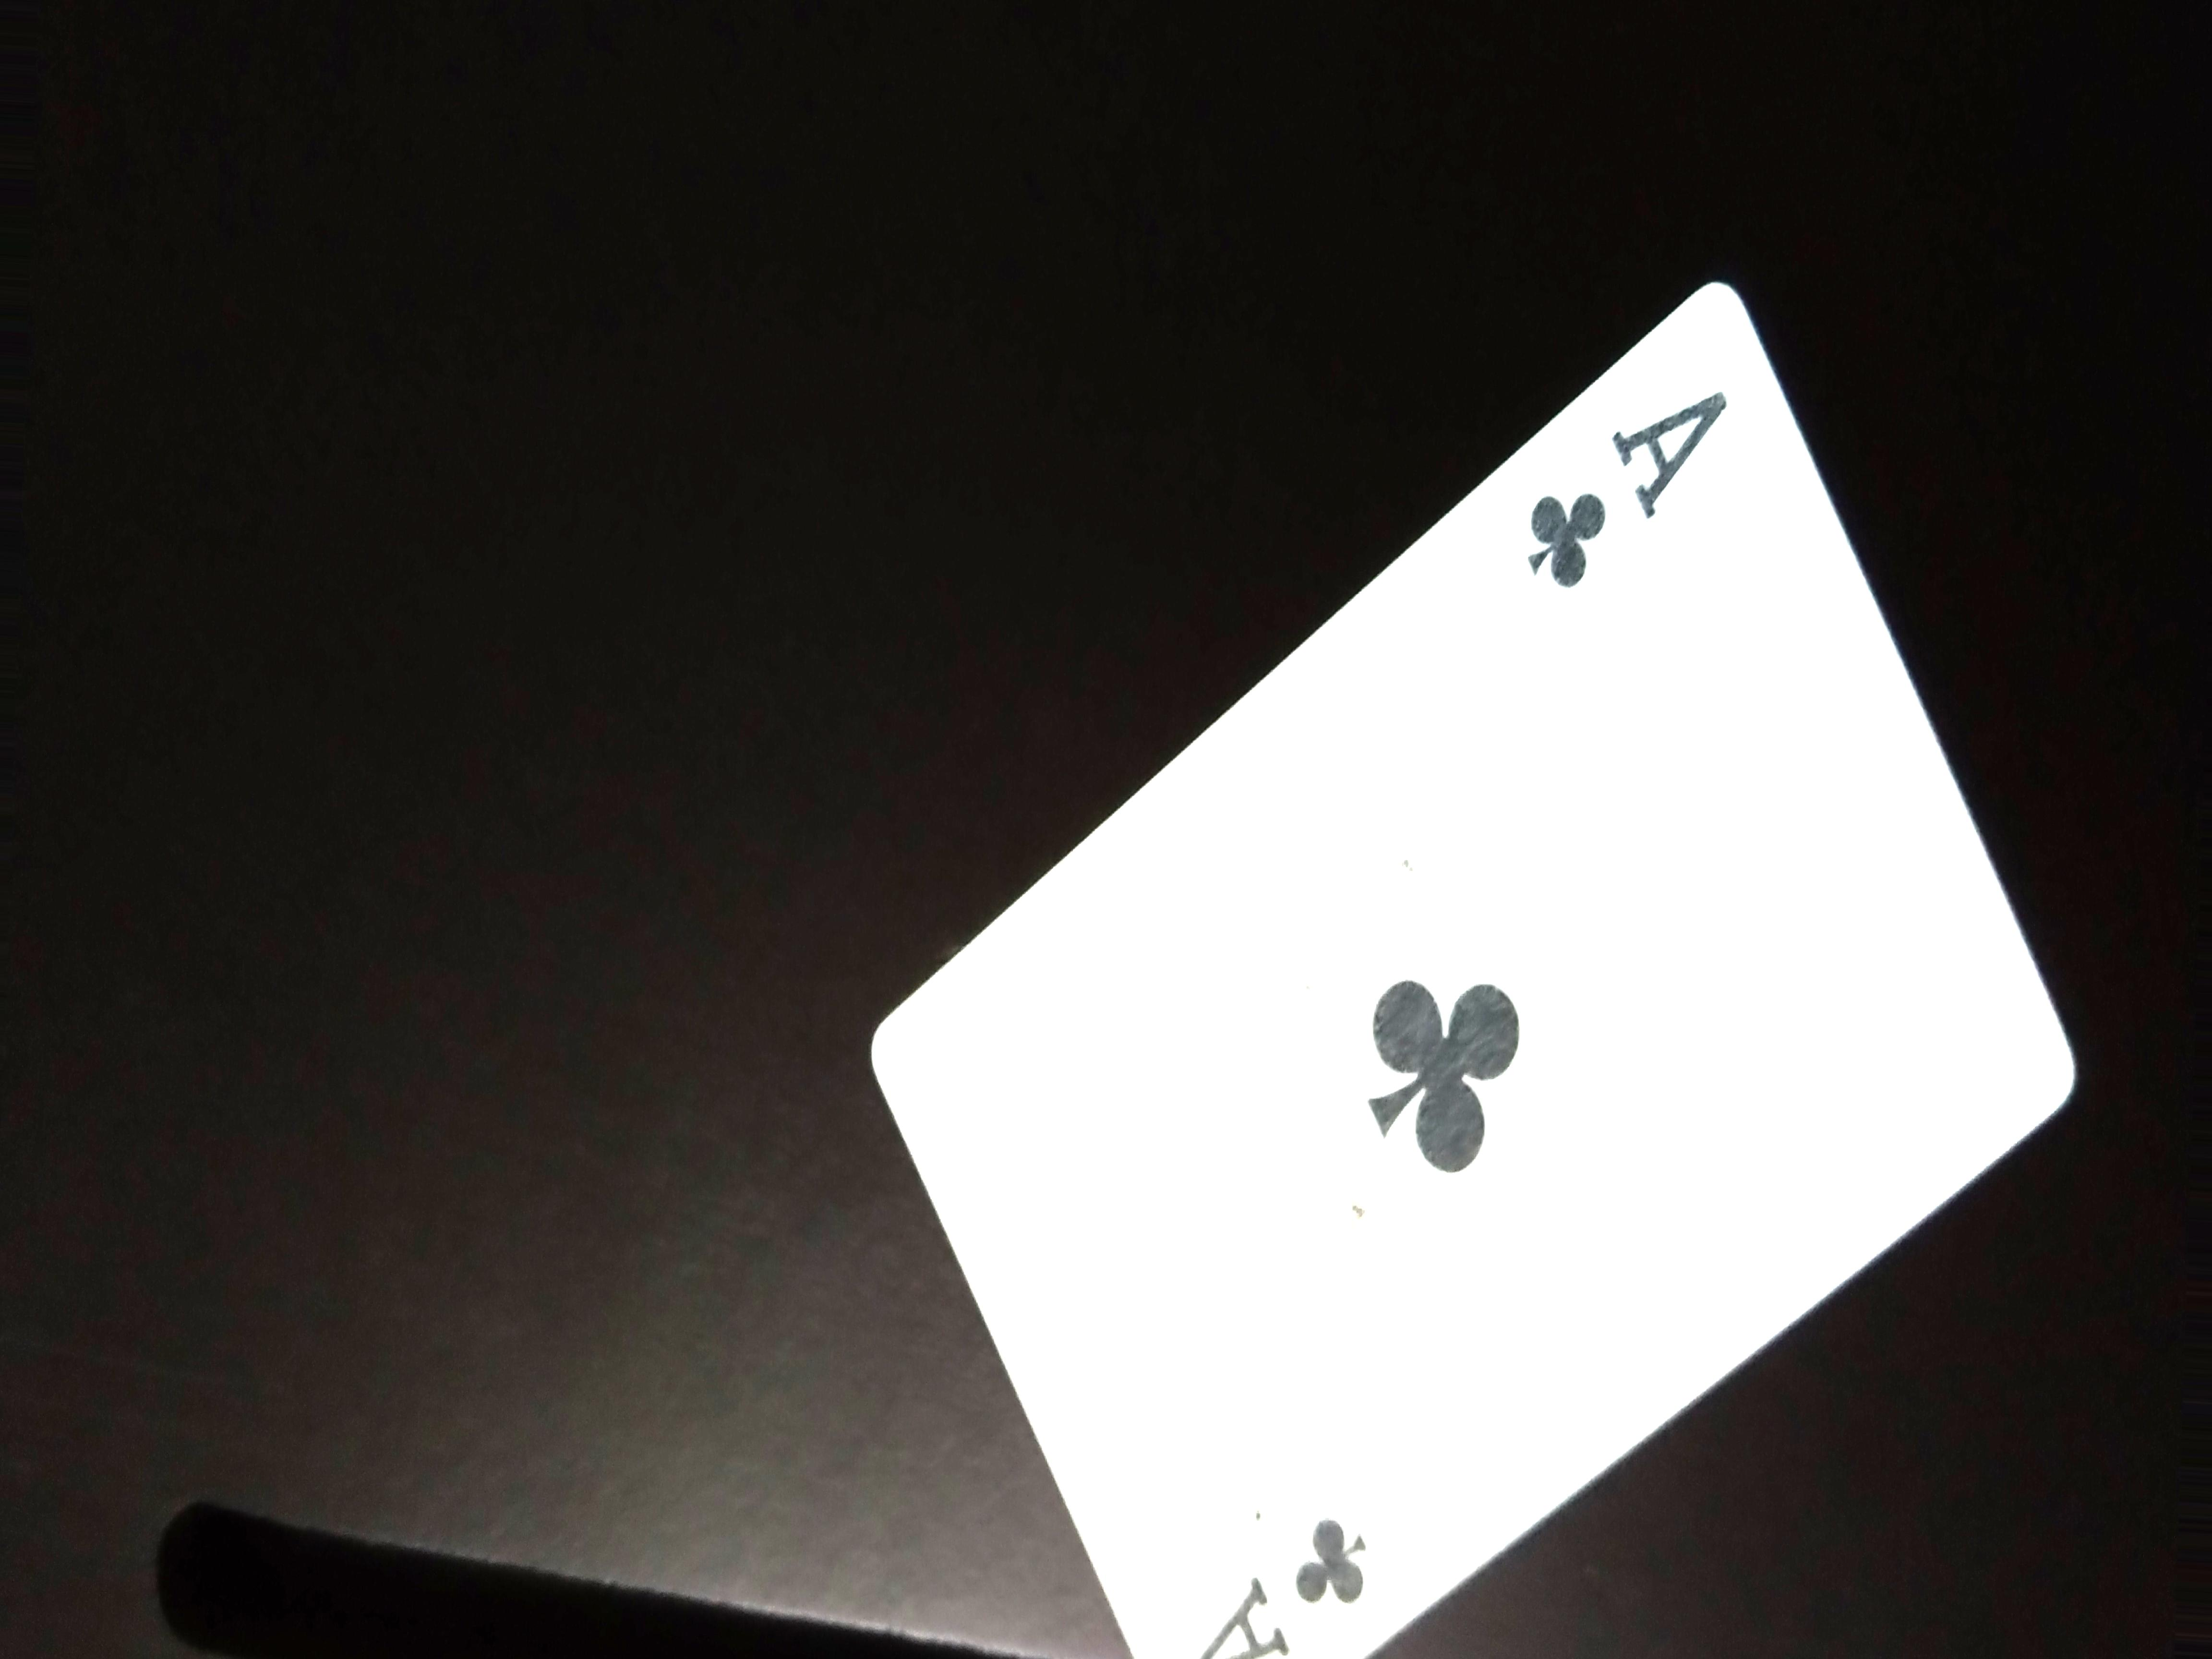AC: (1501, 357, 1749, 601)
